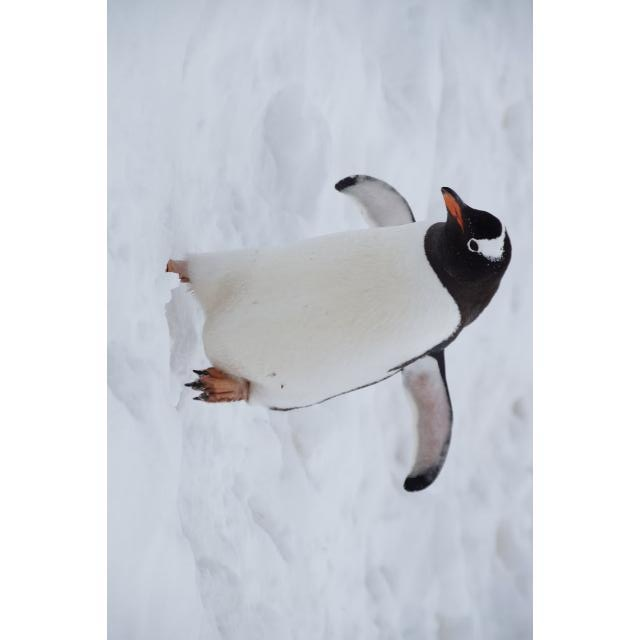penguin: (163, 174, 514, 497)
